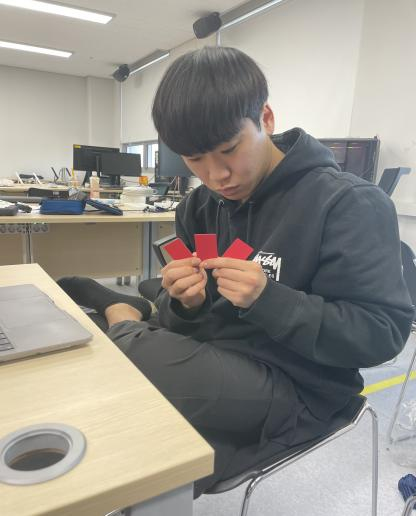ThreeHwatoo: (160, 227, 258, 279)
